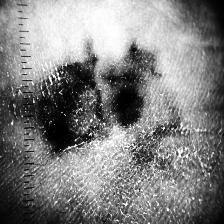Benign Marking or Mole: (35, 53, 180, 156)
